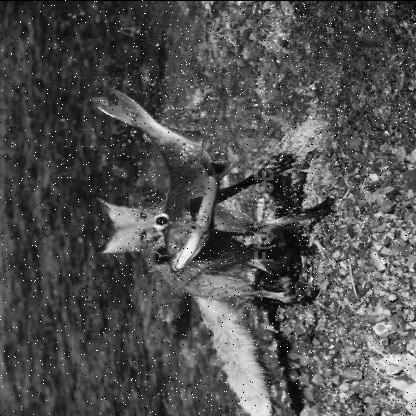fish: (95, 87, 231, 272)
